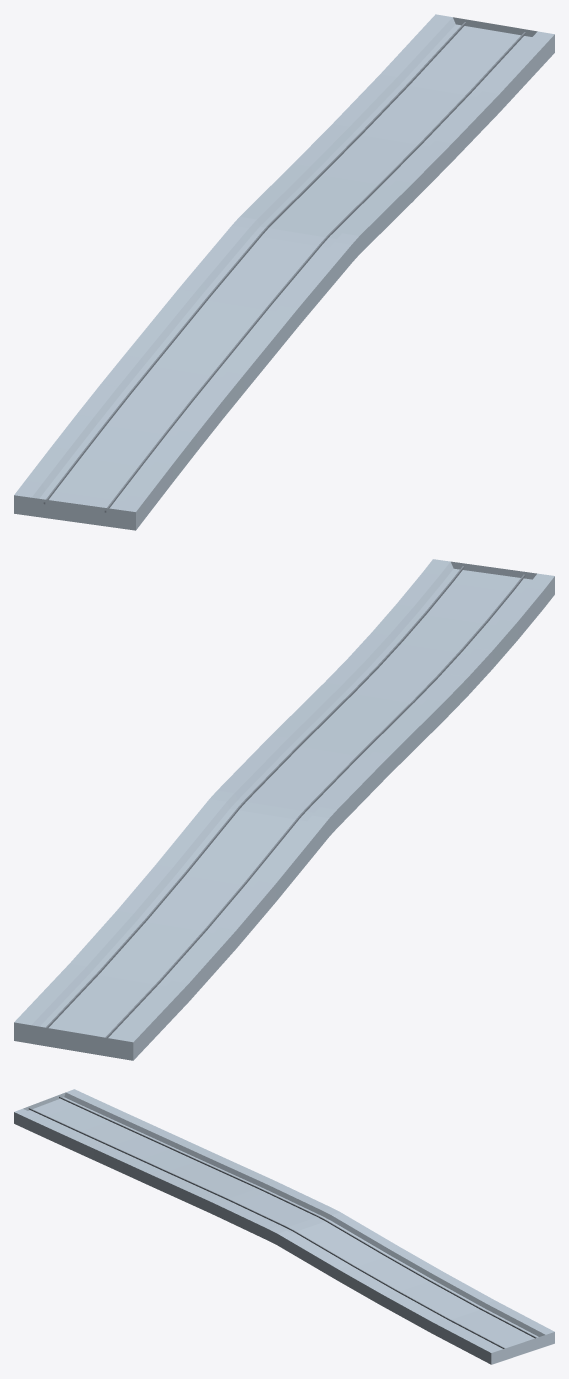
Rendered from Rail_0_-1.fbx.
3 renders of one model, top to bottom at view 1: azimuth 30°, elevation 25°; view 2: azimuth 210°, elevation 25°; view 3: azimuth 270°, elevation 25°, orthographic. The views are drawn at different scales.
Visible parts, largest first — view 1: Rail_0_-1; view 2: Rail_0_-1; view 3: Rail_0_-1.
Boxes of the visible parts, x1,y1,x2,y2 form: Rail_0_-1: (14,14,554,530); Rail_0_-1: (14,559,554,1060); Rail_0_-1: (14,1089,554,1364).
Bounding box in the file's own units: 9244 × 372 × 7866.
